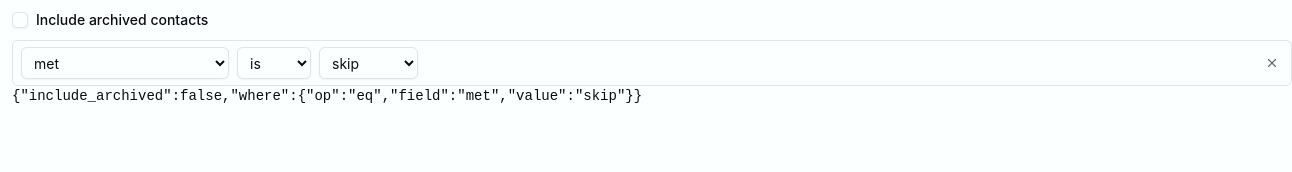
Test: changing the column of a comparison › drops it between two enums, which share a kind but no values
This screenshot has width=1292, height=172.
Select "source" in the dropdown named "Field" at (125, 63), box x1=21 y1=47 x2=229 y2=79
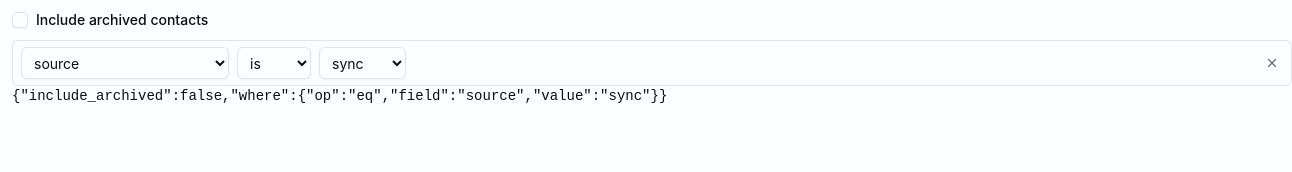
Check: the dropdown named "Value" shows "sync", box x1=319 y1=47 x2=406 y2=79
